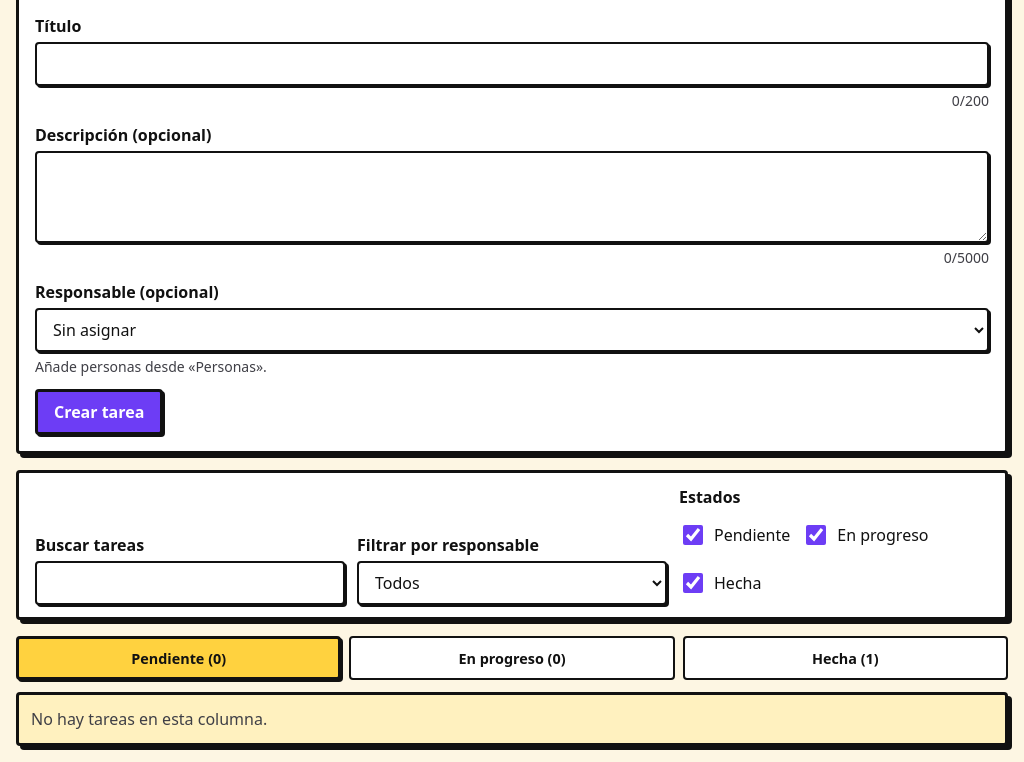
Test case: tablero y creación de tareas (US1) › en pantallas estrechas muestra las columnas como pestañas con contador
The width and height of the screenshot is (1024, 762).
(page scrolled)
Step 1. Click the tab "Pendiente (0)" → coordinates (179, 658), box 16,636 -> 341,680
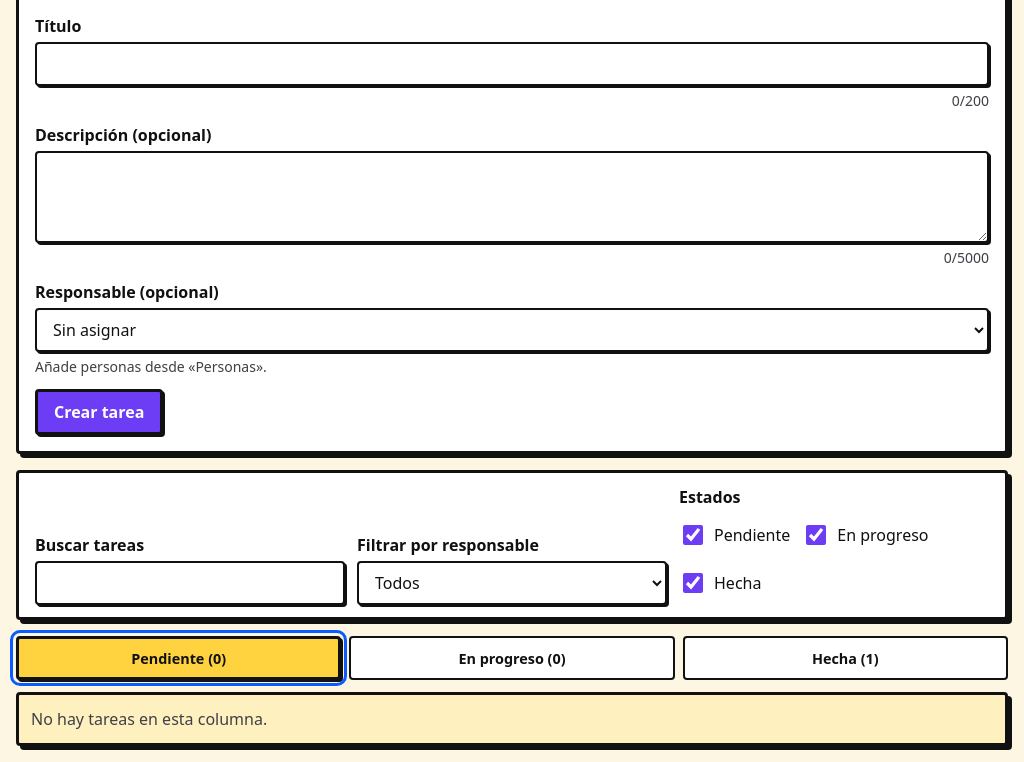
Step 2. Press Arrowleft
(page scrolled)
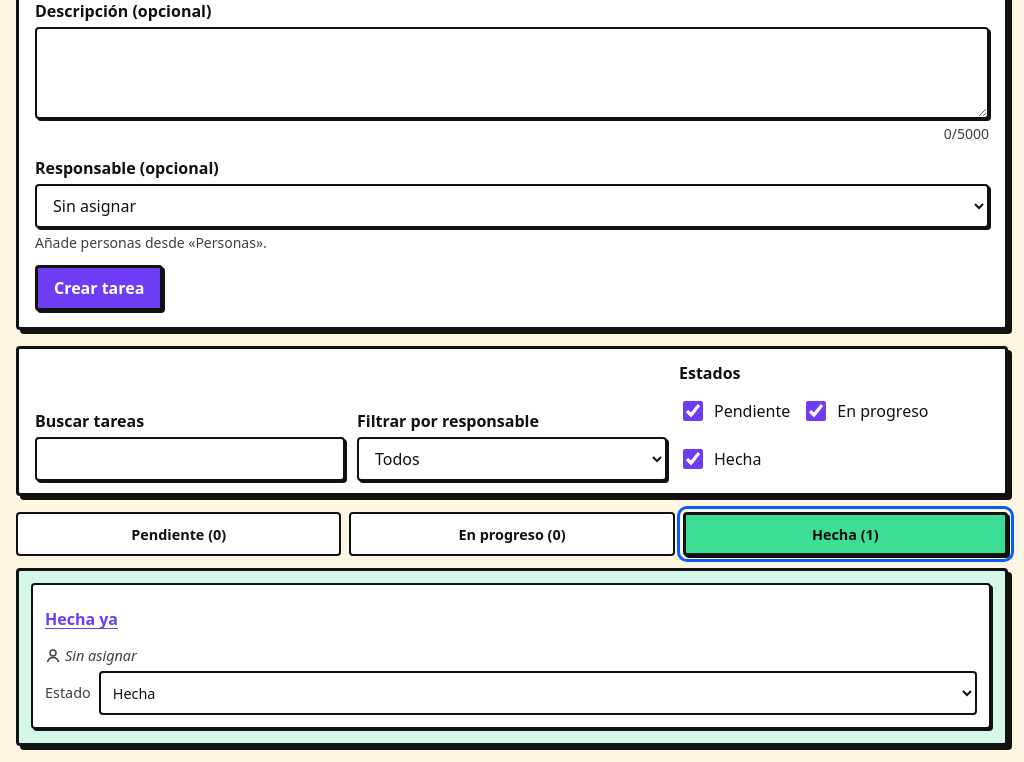
Check: the panel shows "Hecha ya", box 45,597 -> 977,641
